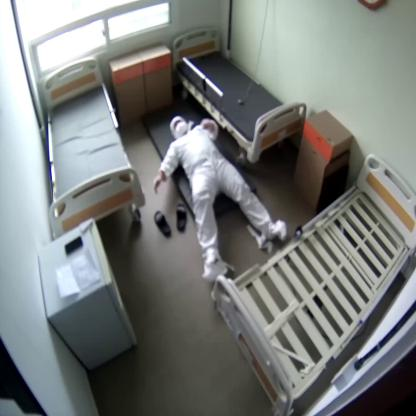Bed: (171, 27, 306, 162)
Person: (153, 117, 287, 281)
